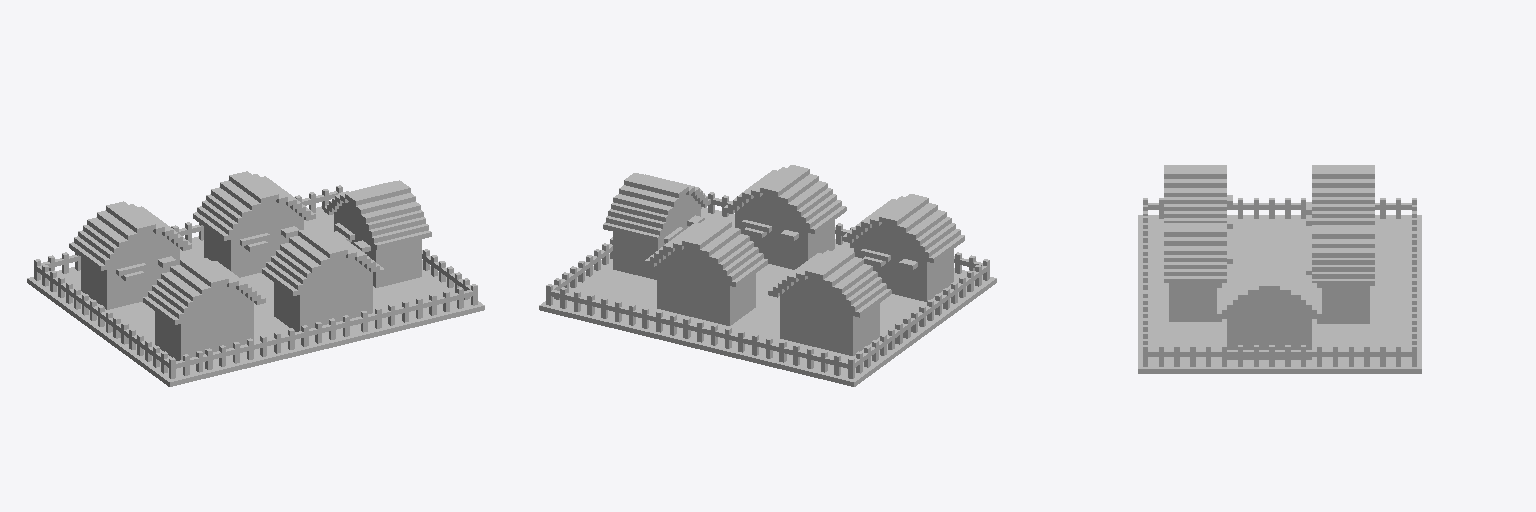
File: village.obj
The picture shows the model from 3 angles: view 1: azimuth 30°, elevation 25°; view 2: azimuth 150°, elevation 25°; view 3: azimuth 270°, elevation 25°; orthographic projection.
Parts seen in each view (by area): view 1: object 1; view 2: object 1; view 3: object 1.
Boxes of the visible parts, x1,y1,x2,y2 form: object 1: [27, 171, 484, 386]; object 1: [539, 165, 996, 386]; object 1: [1138, 165, 1421, 373].
Size of the model in its own units: 6.9 by 1.7 by 5.4.